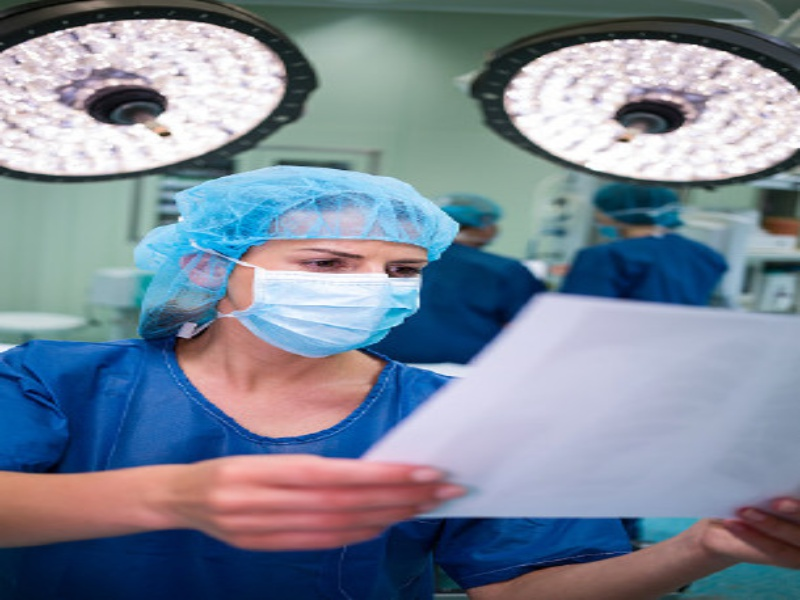mask: (151, 147, 478, 358)
